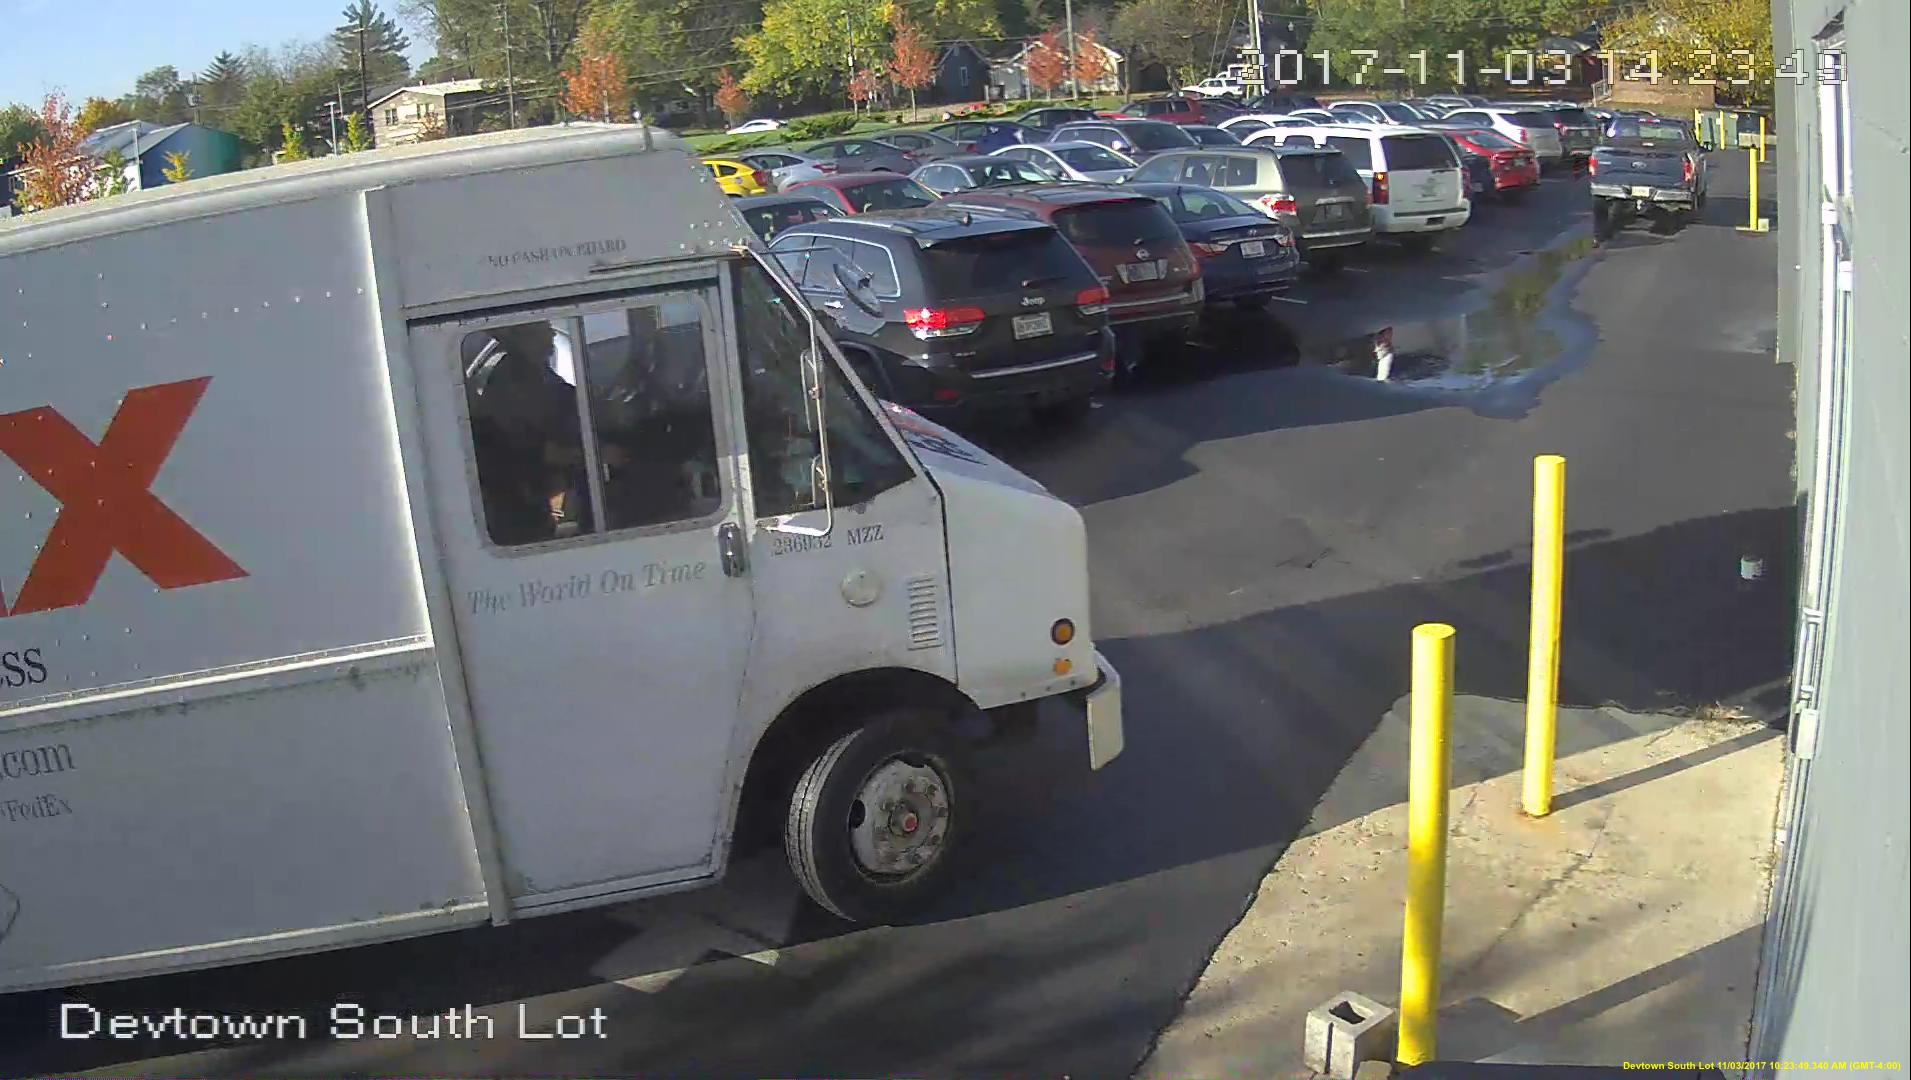fedex_truck: (1, 140, 1131, 999)
